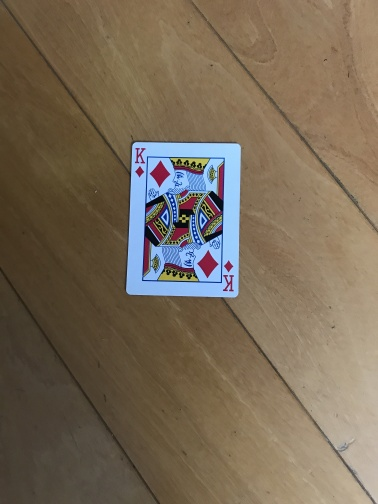king: (125, 142, 242, 299)
